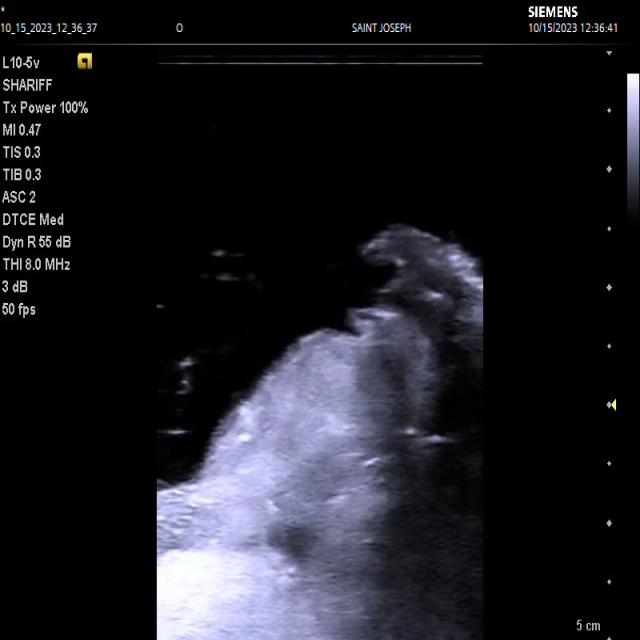tissue: (158, 226, 486, 640)
